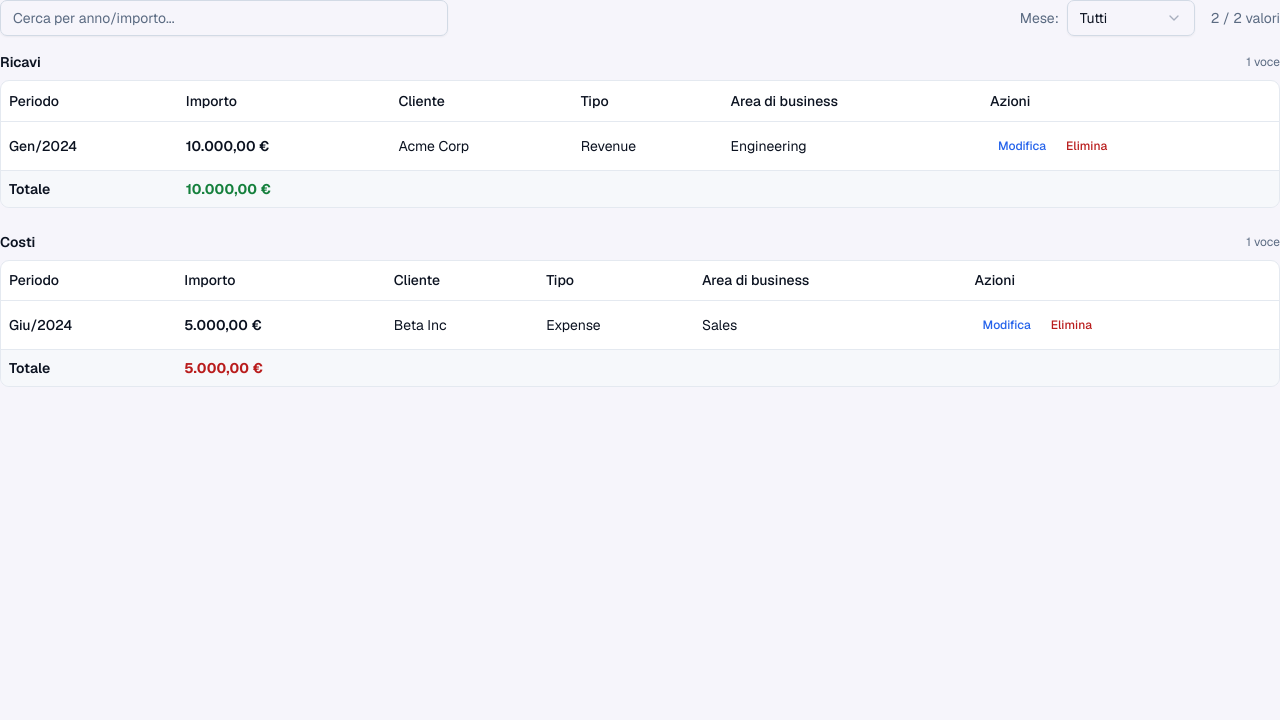
Test: FinancialValueTable › opens delete confirmation dialog when Delete is clicked
Click the button "Elimina" in the row of "Gen" at {"x": 1087, "y": 146}, box [1058, 130, 1115, 162]
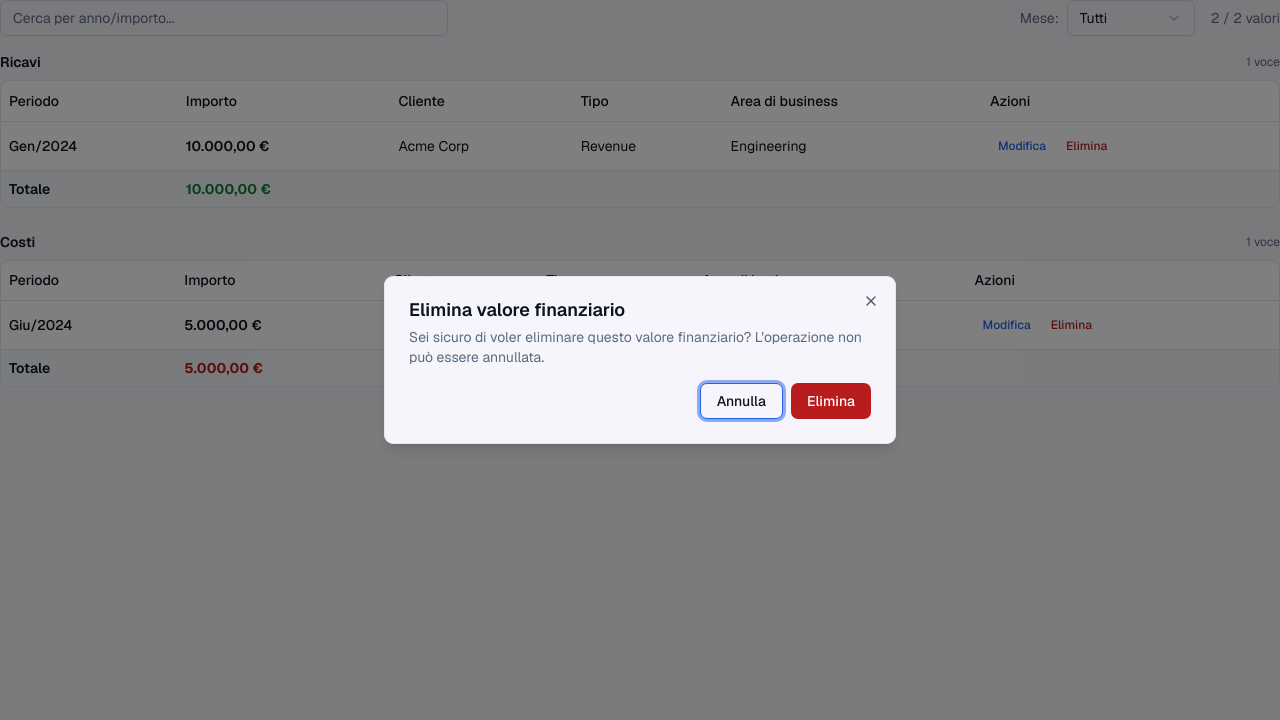
expect the dialog is shown: met, box [384, 276, 896, 444]
expect the text "Sei sicuro" is shown: met, box [409, 328, 862, 366]
